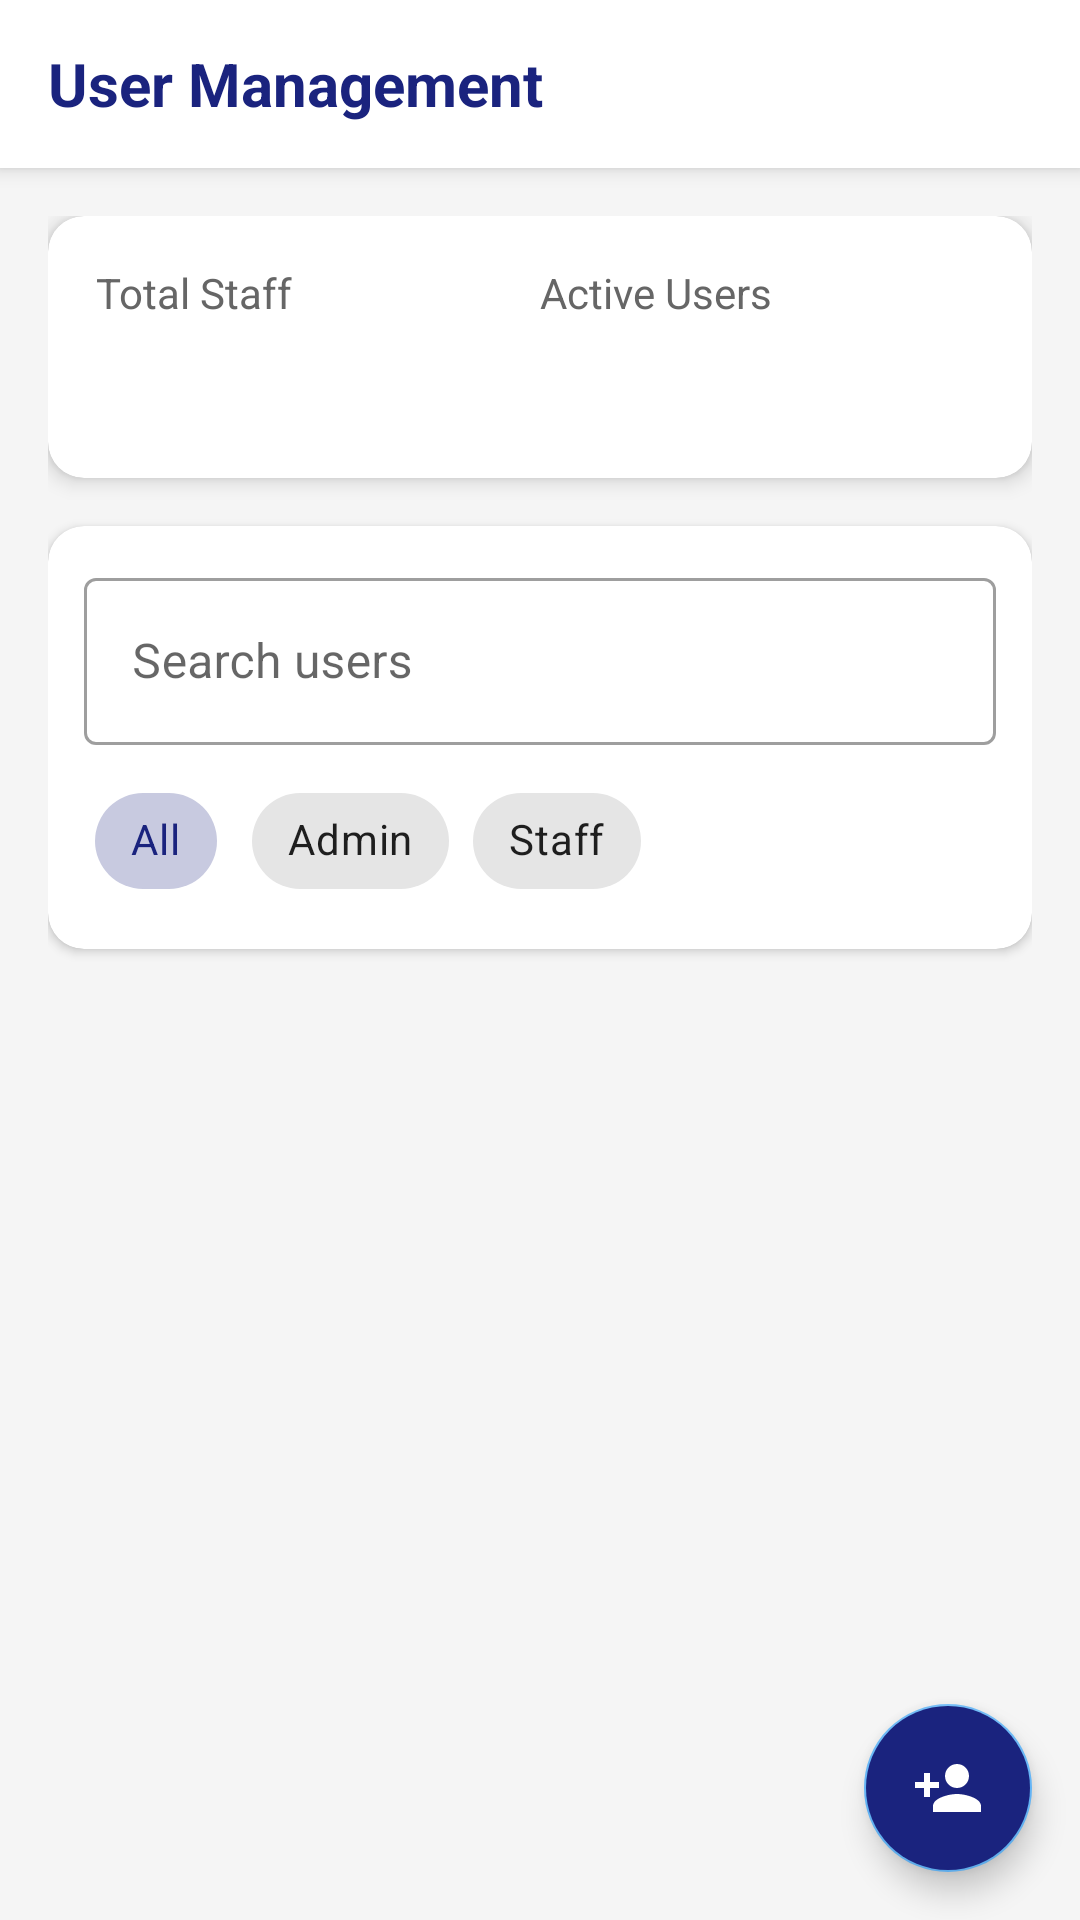

Locate icon controls on the screen. Image size 1080x1920, boxes as Rect(x1, y1, x2, y2).
add user: Rect(864, 1704, 1032, 1872)
